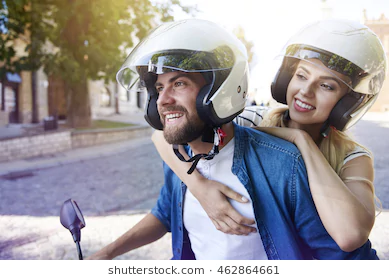with_helmet: (116, 18, 248, 129), (268, 18, 388, 133)
